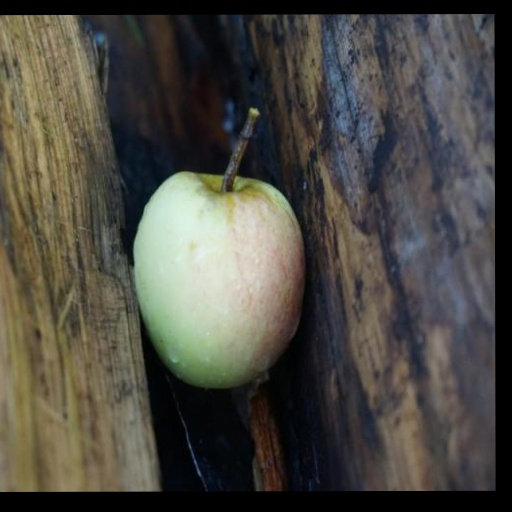fruit: (135, 110, 304, 387)
